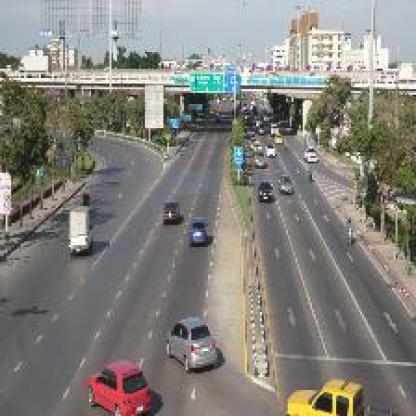other: (78, 350, 151, 411), (280, 370, 364, 411)
